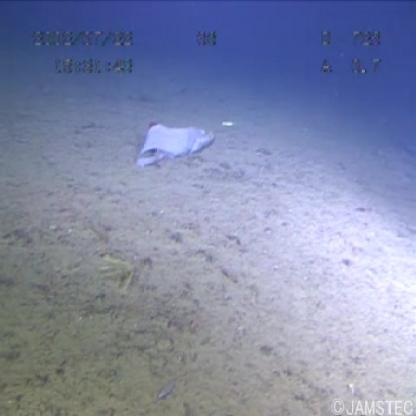Rác: (130, 114, 234, 188)
